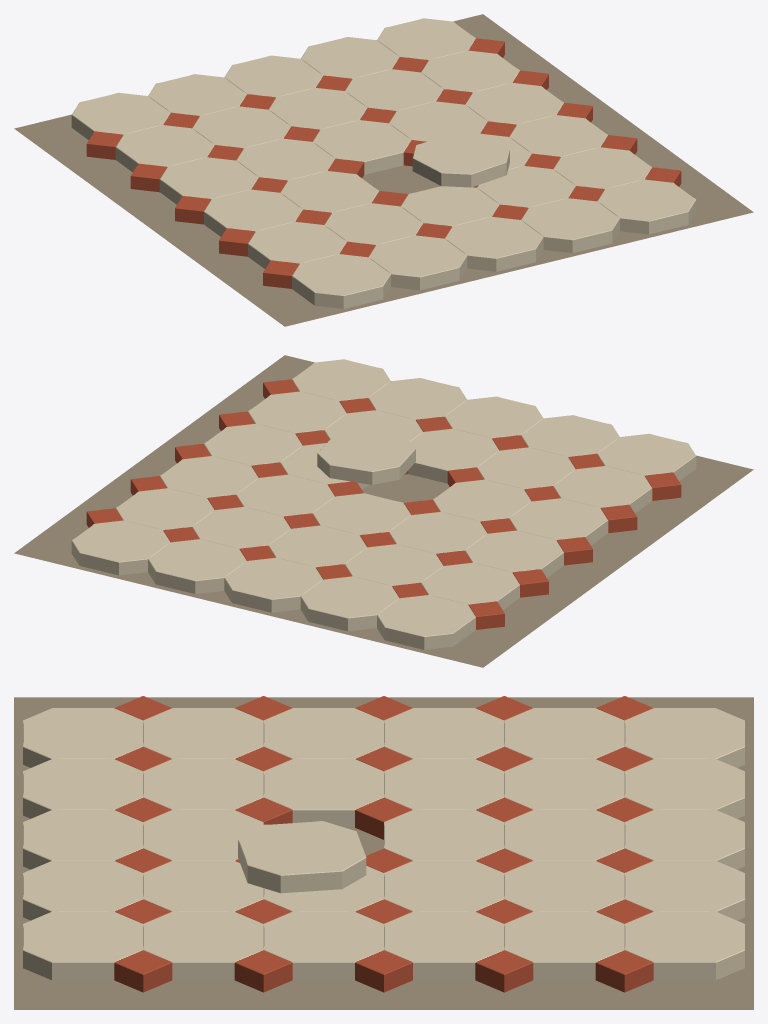
File: terilgan.glb
3 views of the same model, one above another, from view 1: azimuth 30°, elevation 25°; view 2: azimuth 150°, elevation 25°; view 3: azimuth 270°, elevation 25° (orthographic). The views are drawn at different scales.
Visible parts, largest first — view 1: qum, t.005, t.031, t.049, t.027, t.016, t.038, t.033, t.011, t.013, t.015, t.009 (+24 smaller); view 2: qum, t.031, t.015, t.059, t.037, t.026, t.048, t.029, t.009, t.007, t.005, t.011 (+24 smaller); view 3: qum, t.031, t.049, t.059, t.053, t.055, t.051, t.057, t.020, t.038, t.048, t.027 (+48 smaller).
Part boxes in pixels (box(x1,y1,x2,y2)): qum: box(14, 14, 753, 326); t.005: box(292, 254, 390, 308); t.031: box(412, 133, 509, 187); t.049: box(597, 179, 696, 234); t.027: box(445, 216, 543, 271); t.016: box(368, 235, 467, 290); t.038: box(521, 198, 619, 252); t.033: box(312, 120, 411, 174); t.011: box(159, 157, 258, 204); t.013: box(115, 125, 214, 172); t.015: box(71, 92, 170, 139); t.009: box(204, 189, 302, 236); qum: box(14, 355, 753, 667); t.031: box(317, 430, 415, 484); t.015: box(377, 595, 475, 649); t.059: box(71, 520, 170, 575); t.037: box(224, 557, 322, 612); t.026: box(300, 576, 399, 631); t.048: box(148, 539, 246, 593); t.029: box(408, 428, 499, 483); t.009: box(509, 498, 608, 545); t.007: box(553, 466, 652, 513); t.005: box(597, 433, 696, 480); t.011: box(465, 530, 563, 577); qum: box(14, 697, 753, 1009); t.031: box(238, 821, 366, 893); t.049: box(23, 911, 143, 980); t.059: box(624, 911, 744, 980); t.053: box(263, 911, 383, 980); t.055: box(384, 911, 504, 980); t.051: box(143, 911, 263, 980); t.057: box(504, 911, 624, 980); t.020: box(263, 758, 383, 827); t.038: box(23, 860, 143, 920); t.048: box(624, 860, 744, 920); t.027: box(23, 809, 143, 869).
Bounding box in the file's own units: 1.66 × 0.092 × 1.66.
